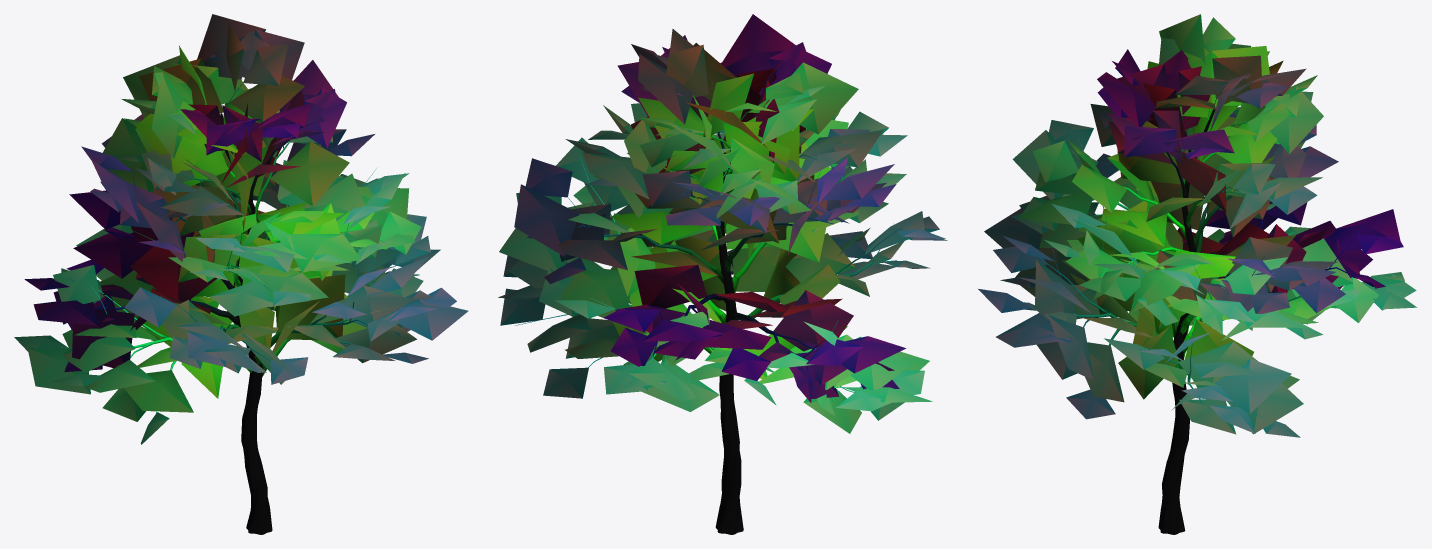
Rendered from SM_WLTree_03.FBX.
3 views of the same model, side by side, from view 1: azimuth 30°, elevation 25°; view 2: azimuth 150°, elevation 25°; view 3: azimuth 270°, elevation 25° (orthographic). The views are drawn at different scales.
Visible parts, largest first — view 1: SM_WLTree_03_LOD0; view 2: SM_WLTree_03_LOD0; view 3: SM_WLTree_03_LOD0.
Part boxes in pixels (box(x1,y1,x2,y2)): SM_WLTree_03_LOD0: box(14, 14, 468, 534); SM_WLTree_03_LOD0: box(498, 14, 947, 534); SM_WLTree_03_LOD0: box(978, 14, 1416, 534).
Size of what is drawn, in the model's own units: 649 by 606 by 729.
